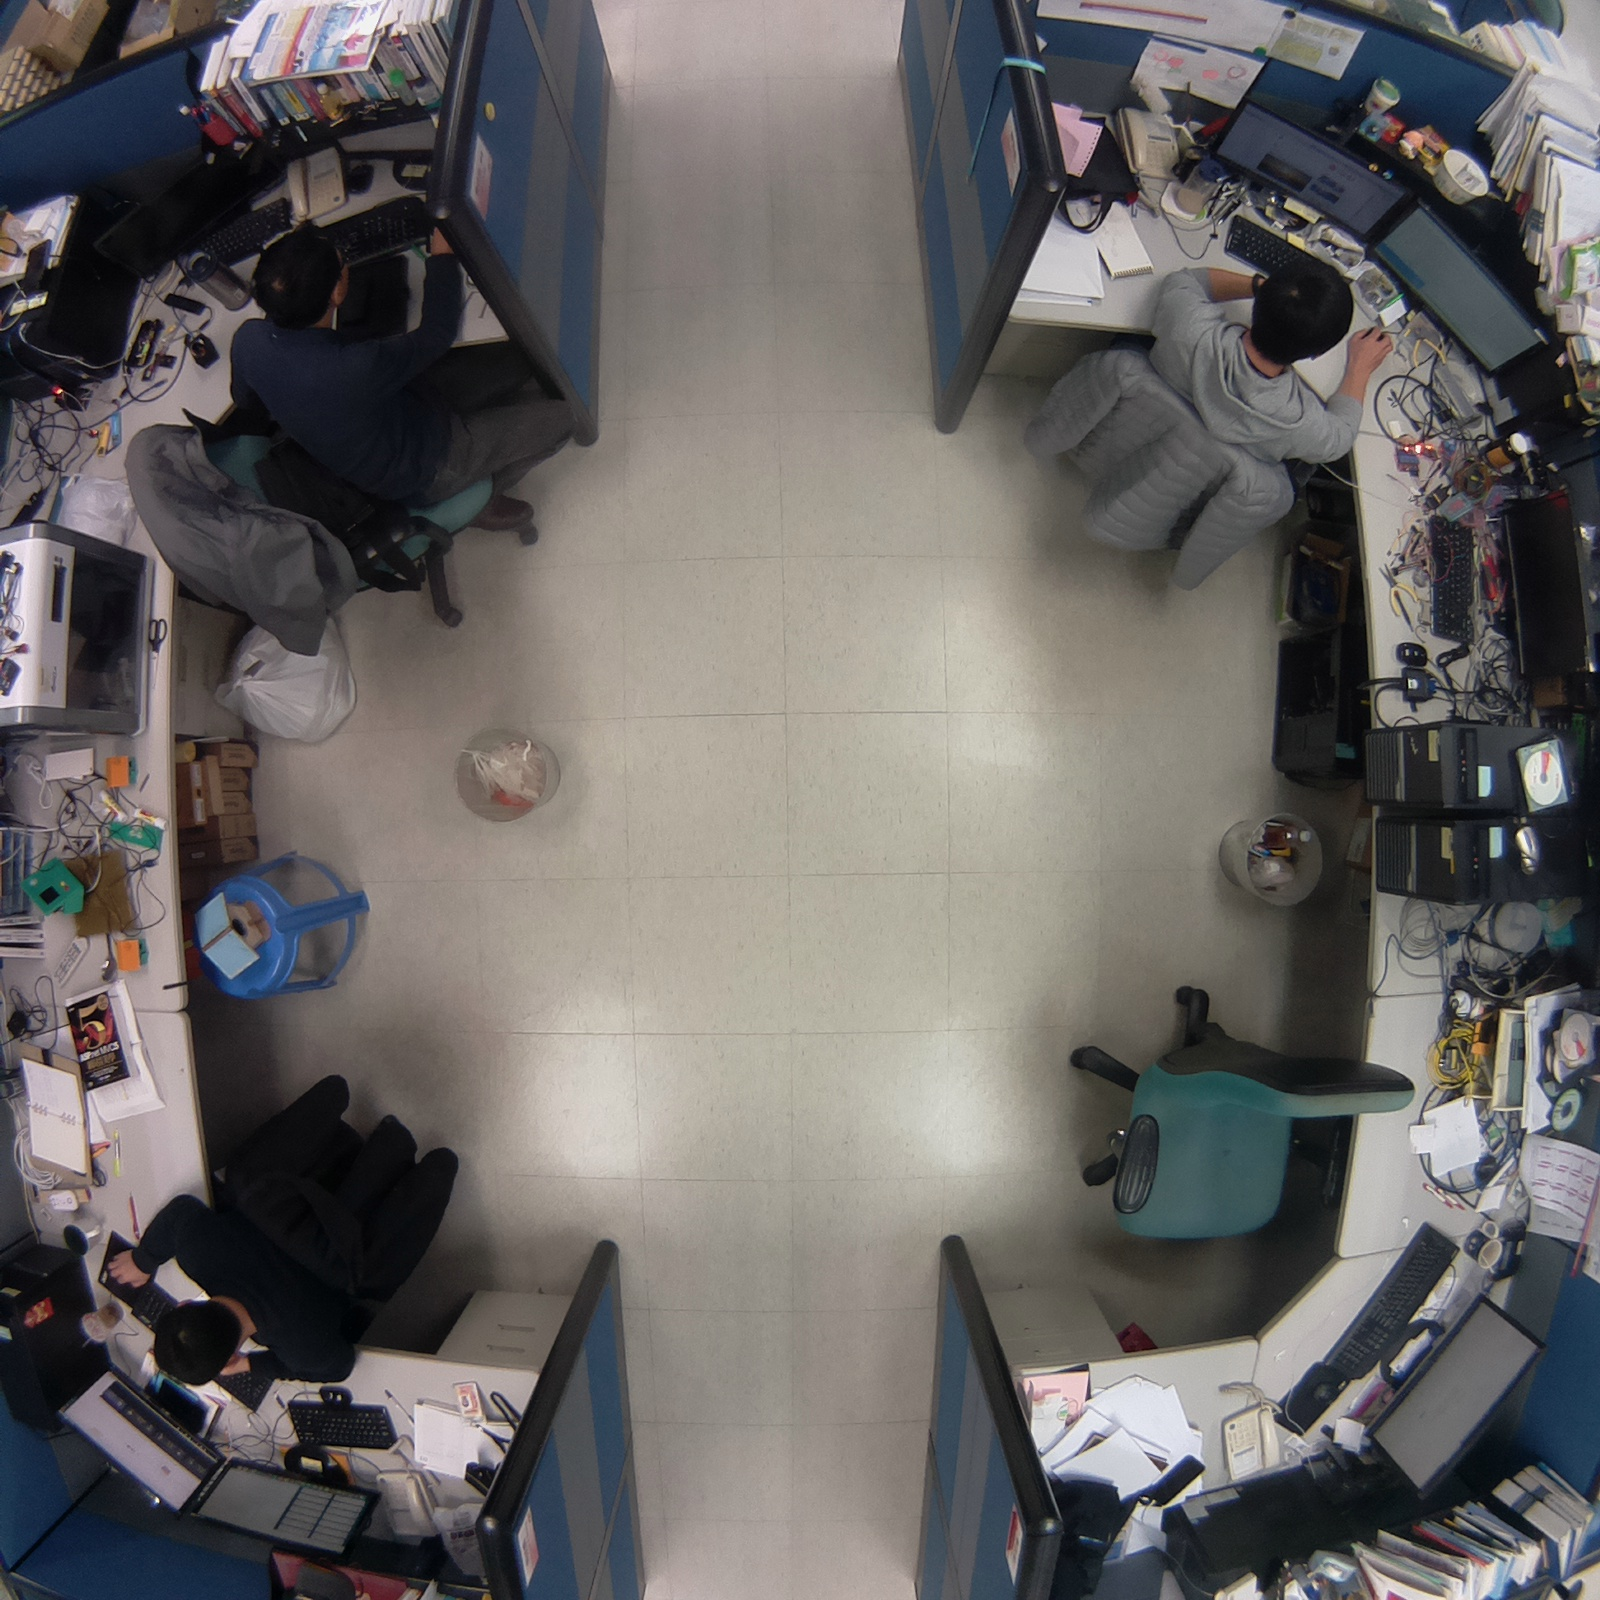chair: (1059, 973, 1423, 1260)
sitting: (117, 207, 583, 673), (1014, 237, 1396, 607), (89, 1059, 470, 1402)
